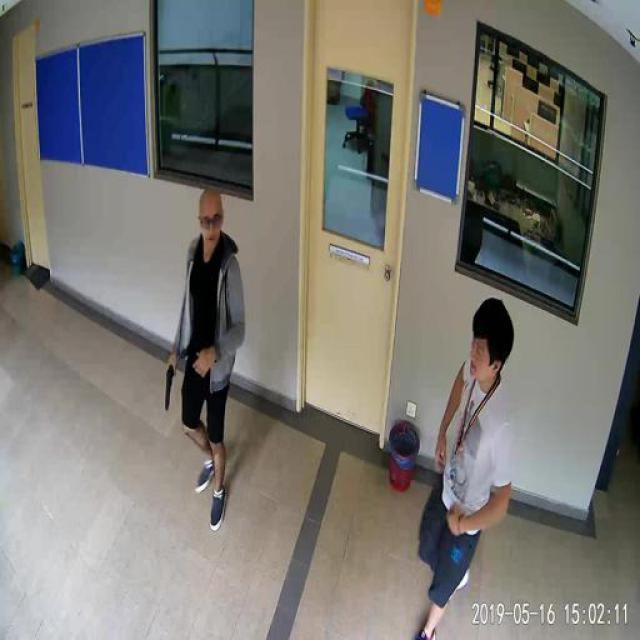weapon: (165, 352, 186, 412)
